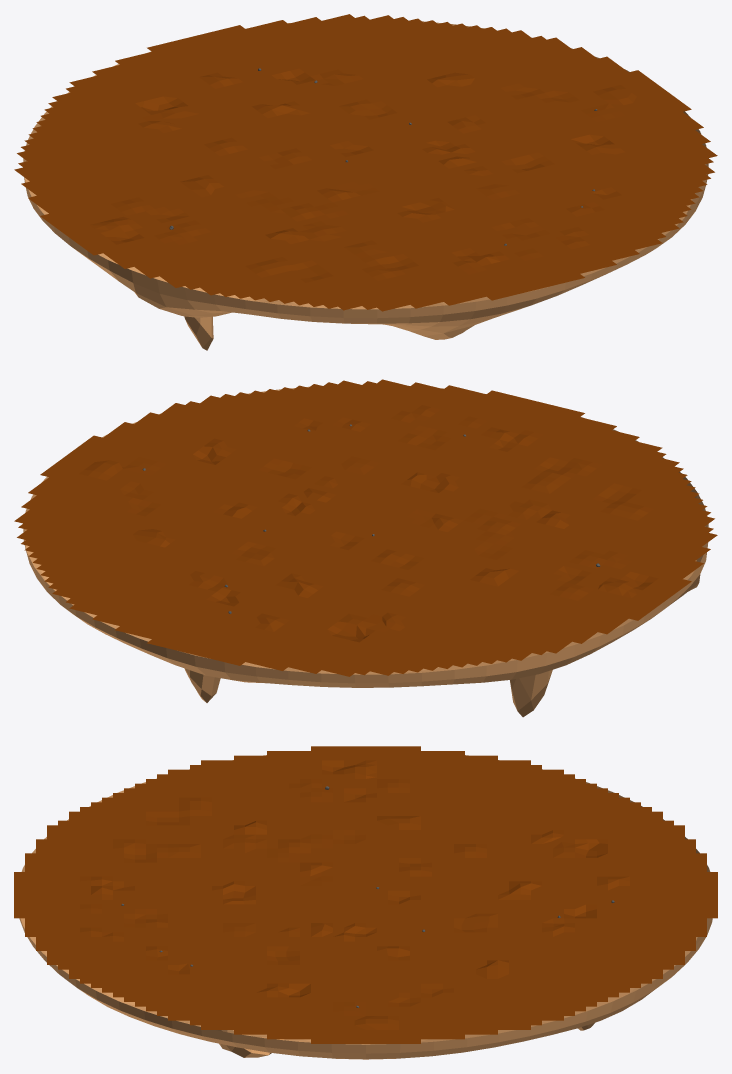
File: Stage.fbx
3 views of the same model, one above another, from view 1: azimuth 30°, elevation 25°; view 2: azimuth 150°, elevation 25°; view 3: azimuth 270°, elevation 25° (orthographic).
Visible parts, largest first — view 1: Plane, 円柱; view 2: Plane, 円柱; view 3: Plane, 円柱.
Boxes of the visible parts, x1=… form: Plane: x1=14, y1=14, x2=717, y2=311; 円柱: x1=23, y1=21, x2=708, y2=350; Plane: x1=14, y1=379, x2=717, y2=676; 円柱: x1=23, y1=386, x2=708, y2=717; Plane: x1=14, y1=746, x2=717, y2=1043; 円柱: x1=19, y1=755, x2=712, y2=1059.
Size of the model in its own units: 20000 by 4923 by 20000.
